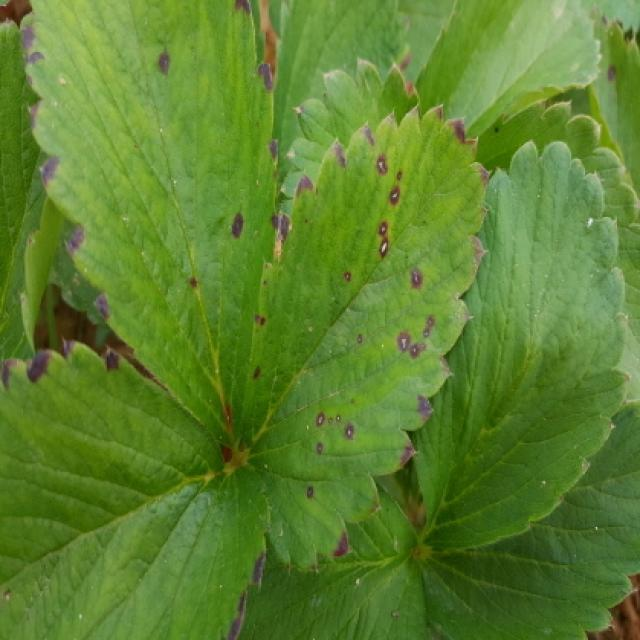Leaf Spot: (16, 0, 279, 452), (240, 103, 493, 571)
